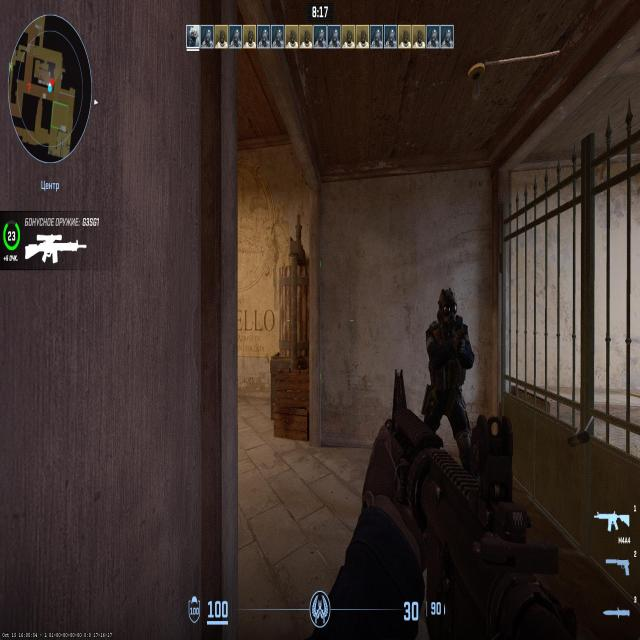CT: (430, 288, 466, 438)
CT_heat: (442, 292, 454, 318)
